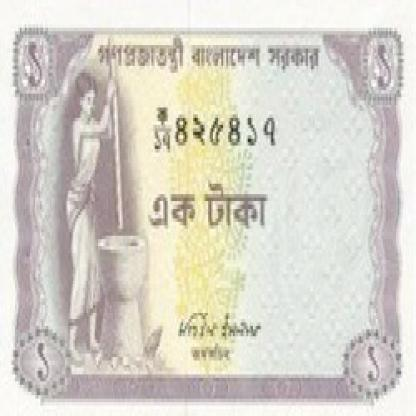One Taka: (146, 183, 272, 242), (16, 31, 52, 90), (371, 35, 399, 104), (29, 336, 58, 392), (361, 340, 386, 392)
